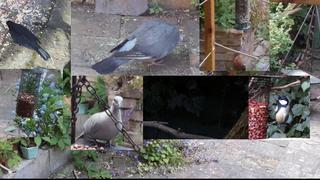blackbird: (6, 20, 51, 61)
collared dove: (75, 96, 123, 147)
great tit: (264, 96, 290, 128)
wood pigeon: (91, 20, 180, 75)
